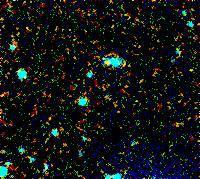star: (94, 48, 124, 78)
